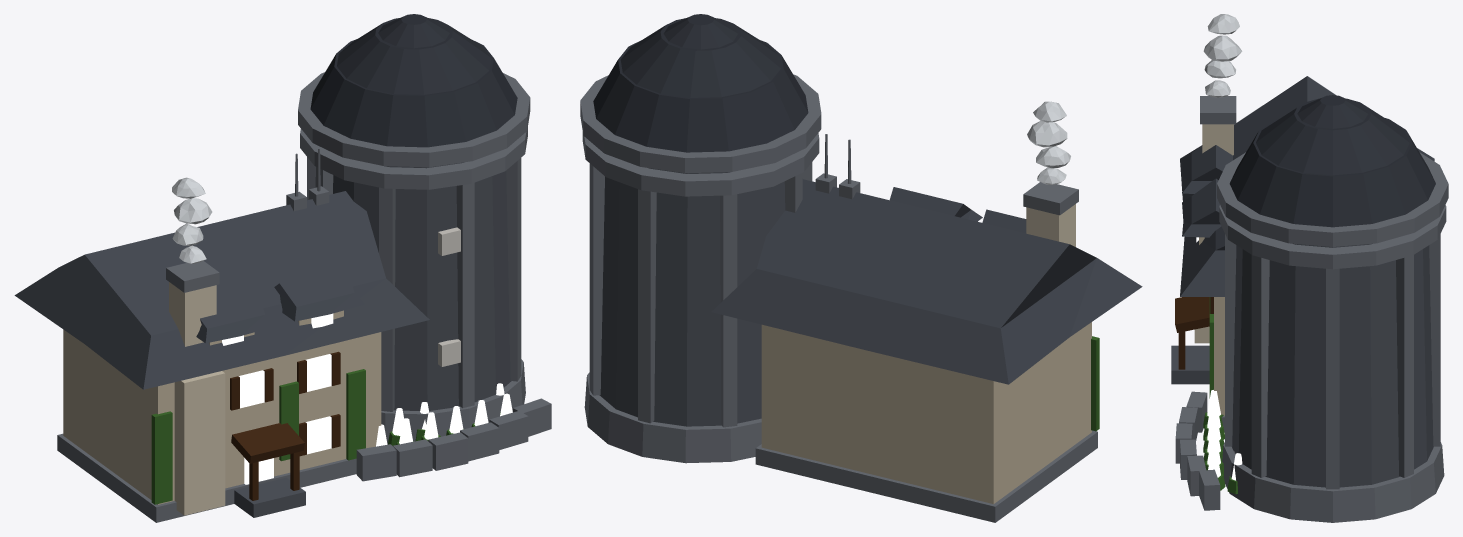
File: marisas-house.glb
The picture shows the model from 3 angles, left to right: view 1: azimuth 30°, elevation 25°; view 2: azimuth 150°, elevation 25°; view 3: azimuth 270°, elevation 25°; orthographic projection. The views are drawn at different scales.
Parts seen in each view (by area): view 1: MarisasHouse_Opaque, MarisasHouse_Emissive; view 2: MarisasHouse_Opaque; view 3: MarisasHouse_Opaque, MarisasHouse_Emissive.
Part boxes in pixels (bbox=[...]): MarisasHouse_Opaque: bbox=[14, 14, 551, 522]; MarisasHouse_Emissive: bbox=[222, 313, 512, 484]; MarisasHouse_Opaque: bbox=[580, 14, 1142, 522]; MarisasHouse_Opaque: bbox=[1171, 14, 1448, 522]; MarisasHouse_Emissive: bbox=[1196, 237, 1242, 480].
Bounding box in the file's own units: 24.15 × 19.5 × 13.05.
